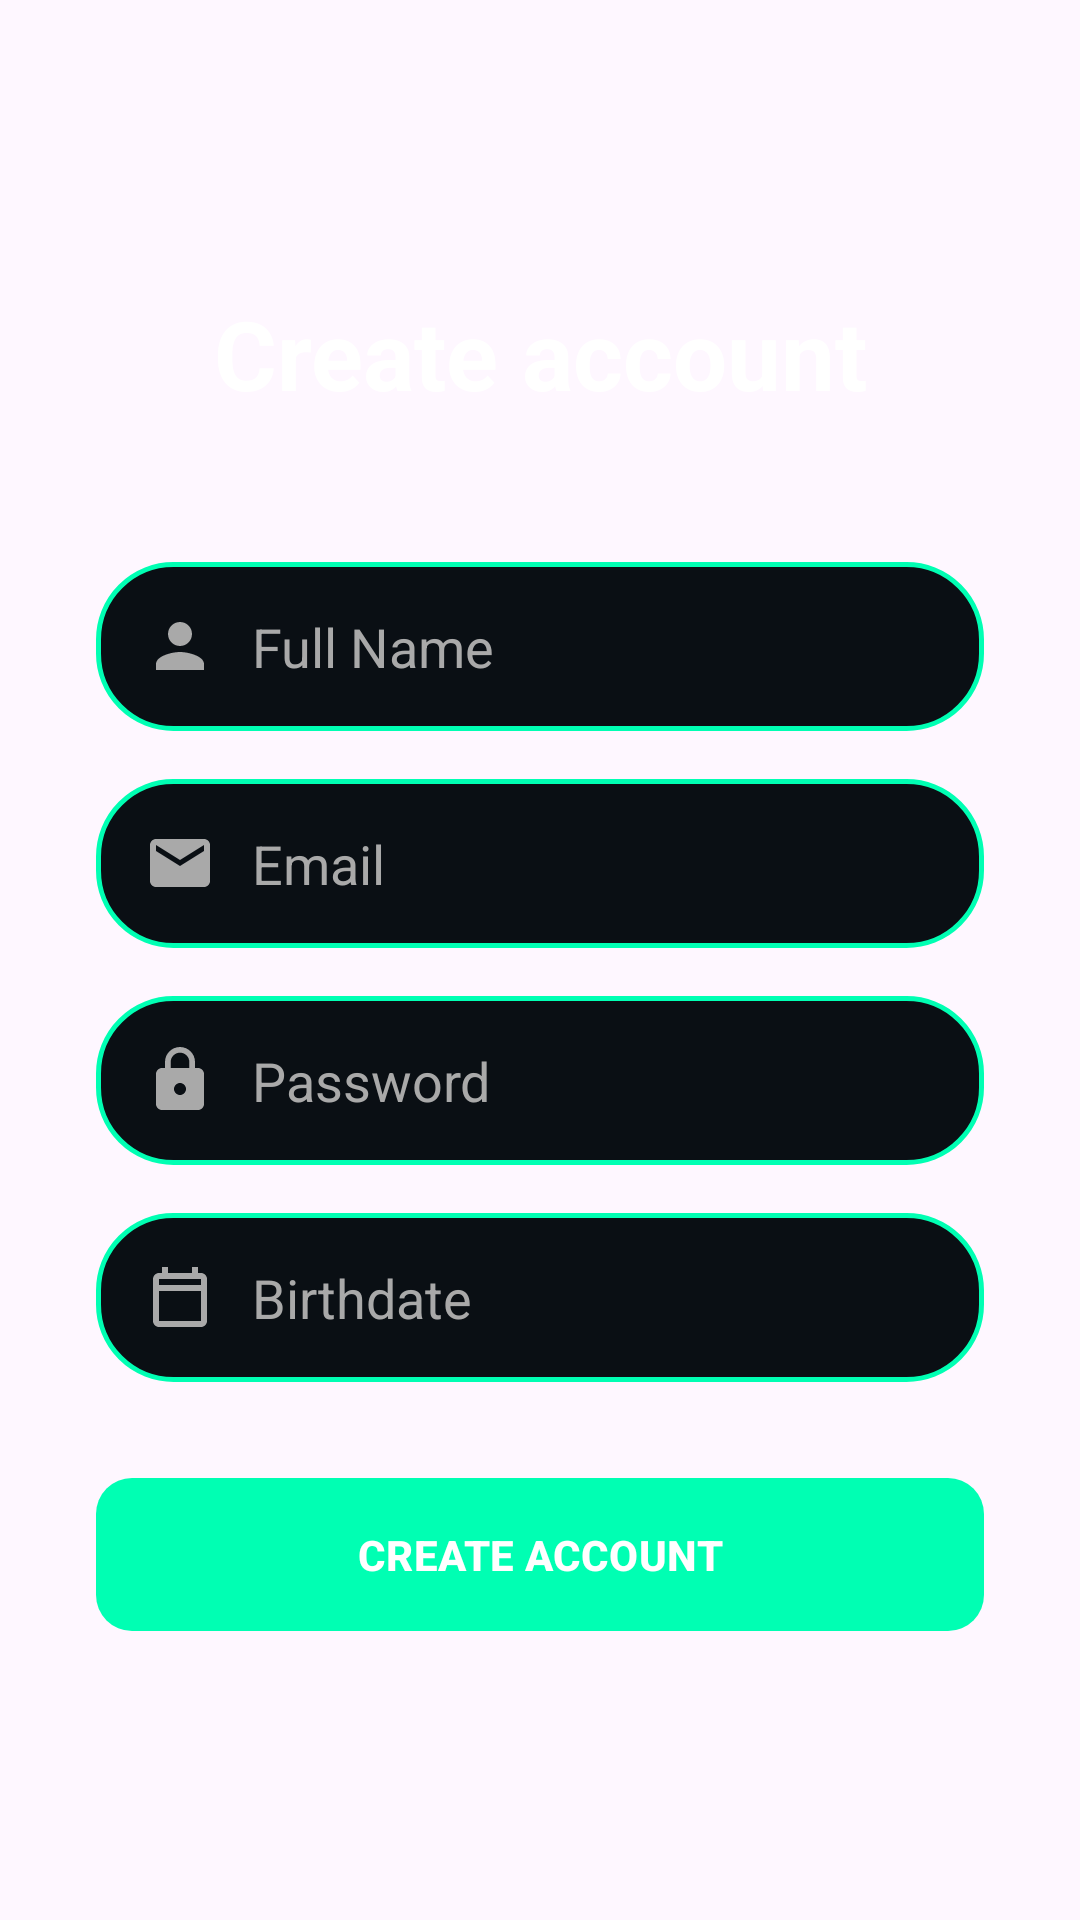

Icons on this 1080px×1920px Android screen, each with the point to tap as point (x, y):
calendar: point (180, 1297)
lock: point (180, 1078)
person: point (180, 646)
